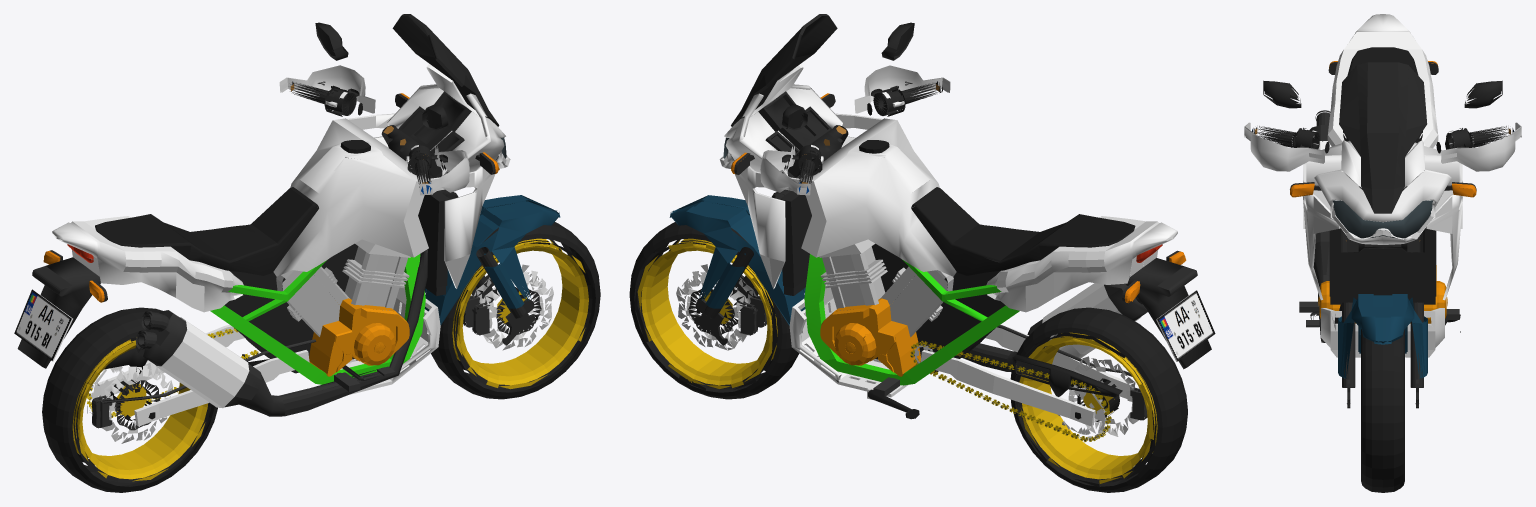
File: veh-adv.glb
3 renders of one model, left to right at view 1: azimuth 30°, elevation 25°; view 2: azimuth 150°, elevation 25°; view 3: azimuth 270°, elevation 25°, orthographic. The views are drawn at different scales.
Visible parts, largest first — view 1: p0; view 2: p0; view 3: p0.
Part boxes in pixels (bbox=[...]): p0: bbox=[14, 14, 600, 492]; p0: bbox=[629, 14, 1215, 492]; p0: bbox=[1244, 14, 1521, 492].
Bounding box in the file's own units: 2.46 × 1.65 × 1.1.
2 materials, 2 textured.
